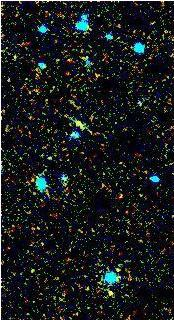star: (97, 278, 127, 308)
